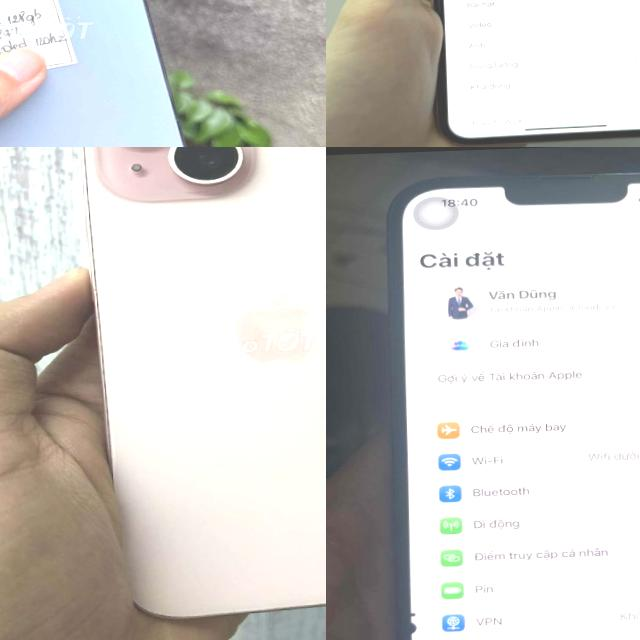gen_12_13: (382, 152, 640, 640), (0, 0, 199, 147)
gen_15: (53, 147, 326, 628)
gen_x_xs: (432, 0, 640, 145)
scratch: (175, 147, 246, 187)
screen_defect: (397, 578, 459, 640)
